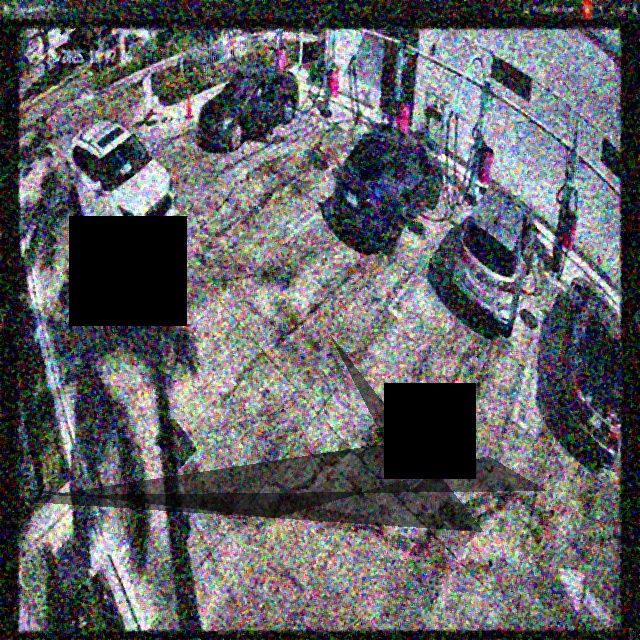Car: (64, 121, 175, 263), (333, 123, 438, 256), (455, 178, 534, 332), (207, 72, 294, 163)
